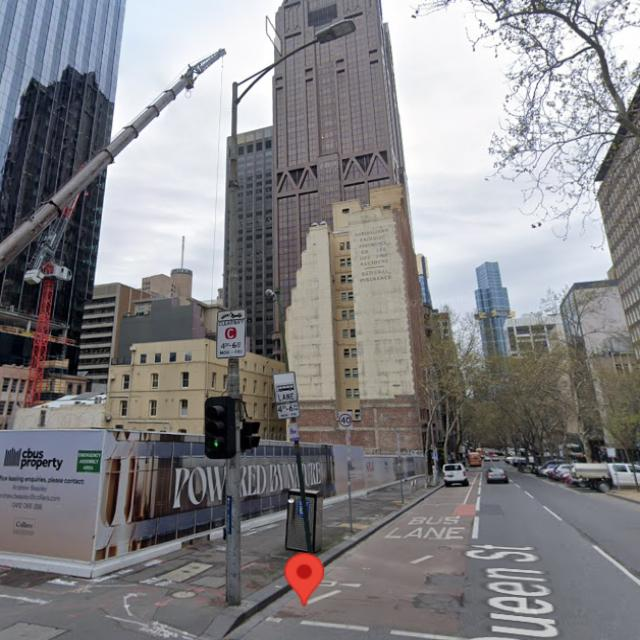mid mount suitable pole: (204, 15, 358, 607)
steel-pole: (223, 81, 243, 607)
streetlight: (234, 17, 357, 104)
traffic-light: (204, 396, 238, 460), (240, 420, 264, 454)
